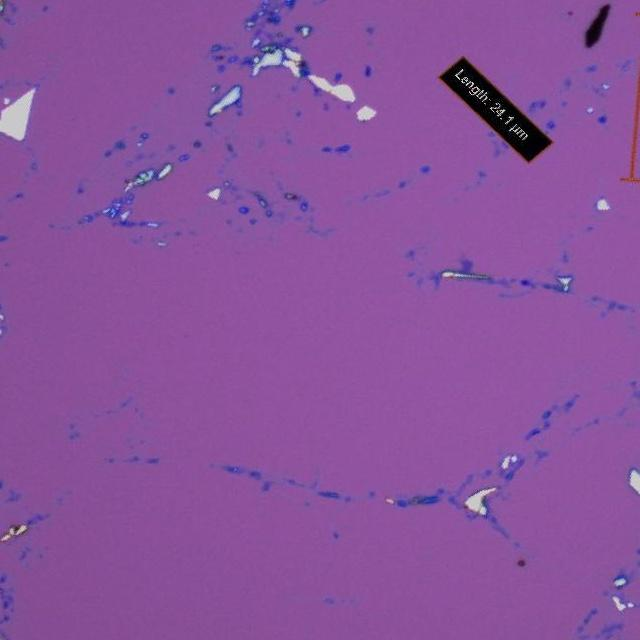monolayer-eWW4: (456, 258, 474, 272)
